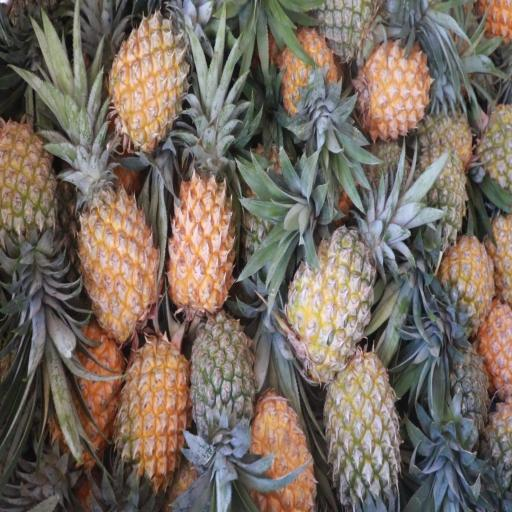------------------------------: (289, 234, 372, 378), (328, 359, 402, 512)
Pineapple - v8 v1: (82, 168, 157, 336), (120, 338, 188, 479), (170, 173, 235, 320), (112, 17, 186, 145), (56, 327, 124, 453), (0, 117, 58, 264), (248, 399, 314, 512), (362, 45, 431, 138), (440, 240, 492, 336), (279, 33, 336, 120)
